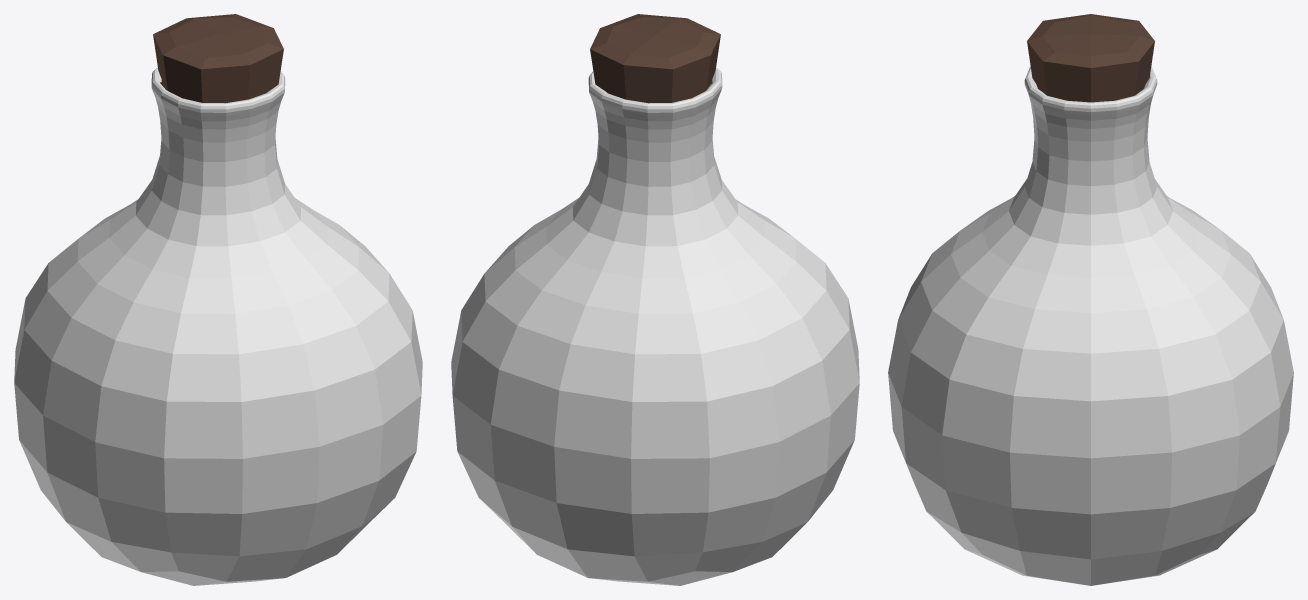
File: Potion0.fbx
The picture shows the model from 3 angles, left to right: view 1: azimuth 30°, elevation 25°; view 2: azimuth 150°, elevation 25°; view 3: azimuth 270°, elevation 25°; orthographic projection.
Parts seen in each view (by area): view 1: Potion1_Filled; view 2: Potion1_Filled; view 3: Potion1_Filled.
Part boxes in pixels (left/top/right/bottom): Potion1_Filled: left=14, top=14, right=422, bottom=585; Potion1_Filled: left=451, top=14, right=859, bottom=585; Potion1_Filled: left=888, top=14, right=1293, bottom=585.
Size of the model in its own units: 66.85 by 96.29 by 66.85.
